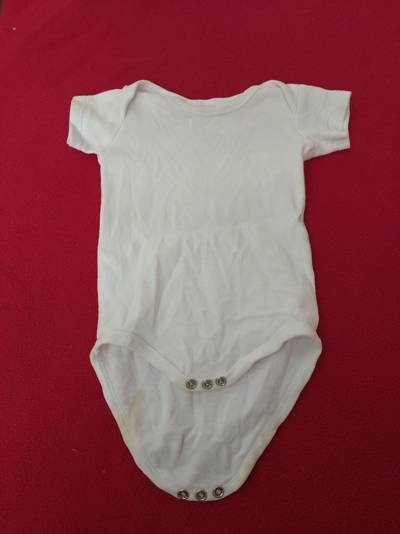Body: (34, 64, 367, 506)
